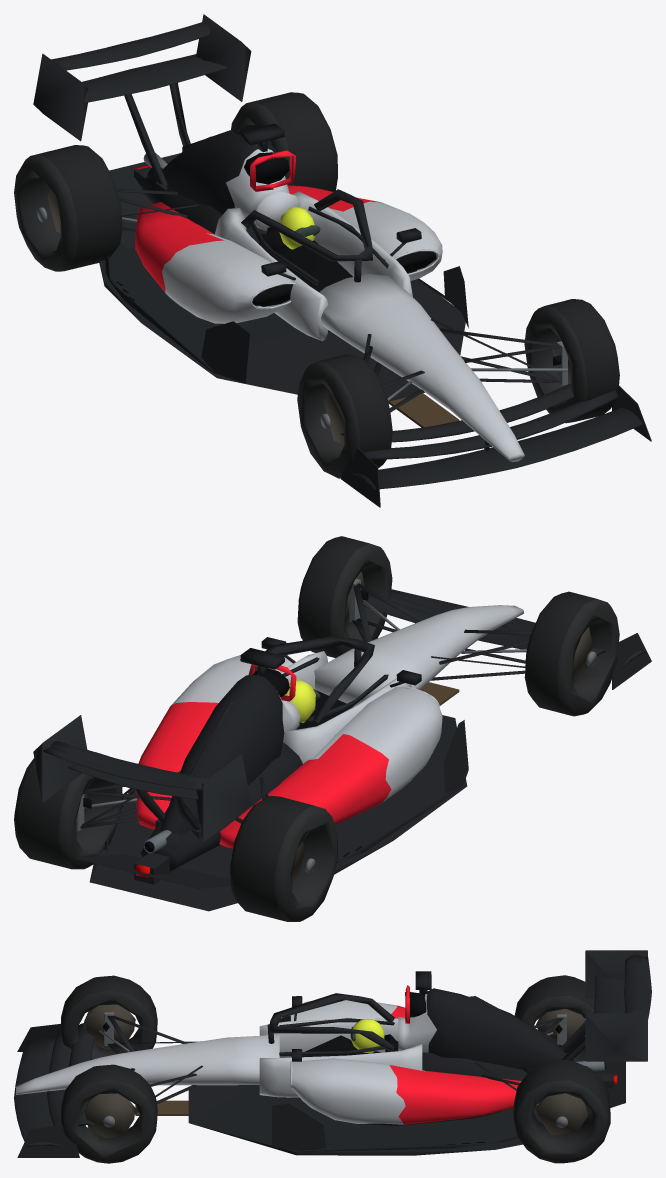
3 renders of one model, top to bottom at view 1: azimuth 30°, elevation 25°; view 2: azimuth 150°, elevation 25°; view 3: azimuth 270°, elevation 25°, orthographic. The views are drawn at different scales.
Parts seen in each view (by area): view 1: L3_Chassis, L3_Wheel_RL, L3_Wheel_FL, L3_Wheel_FR, L3_Wheel_RR; view 2: L3_Chassis, L3_Wheel_RL, L3_Wheel_FL, L3_Wheel_RR, L3_Wheel_FR; view 3: L3_Chassis, L3_Wheel_RR, L3_Wheel_FR, L3_Wheel_FL, L3_Wheel_RL.
Part boxes in pixels (<box>): L3_Chassis: <box>33,14,651,507</box>; L3_Wheel_RL: <box>14,145,122,271</box>; L3_Wheel_FL: <box>297,354,392,478</box>; L3_Wheel_FR: <box>524,299,619,423</box>; L3_Wheel_RR: <box>231,92,337,191</box>; L3_Chassis: <box>33,572,651,911</box>; L3_Wheel_RL: <box>229,796,338,921</box>; L3_Wheel_FL: <box>524,591,619,716</box>; L3_Wheel_RR: <box>14,752,122,869</box>; L3_Wheel_FR: <box>297,536,392,657</box>; L3_Chassis: <box>14,950,651,1157</box>; L3_Wheel_RR: <box>513,1059,610,1163</box>; L3_Wheel_FR: <box>61,1064,157,1163</box>; L3_Wheel_FL: <box>61,975,157,1059</box>; L3_Wheel_RL: <box>514,975,594,1061</box>.
Bounding box in the file's own units: 1.9 × 1.13 × 4.79.
